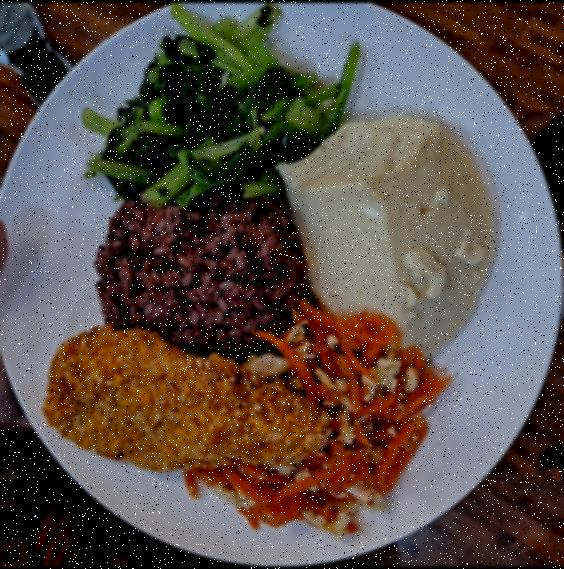big fried chicken leg: (6, 2, 564, 556)
braised fish: (99, 192, 306, 344)
braised fish fillet: (176, 336, 443, 528), (87, 18, 334, 208), (286, 118, 496, 338)
braised pork: (26, 322, 322, 480)
